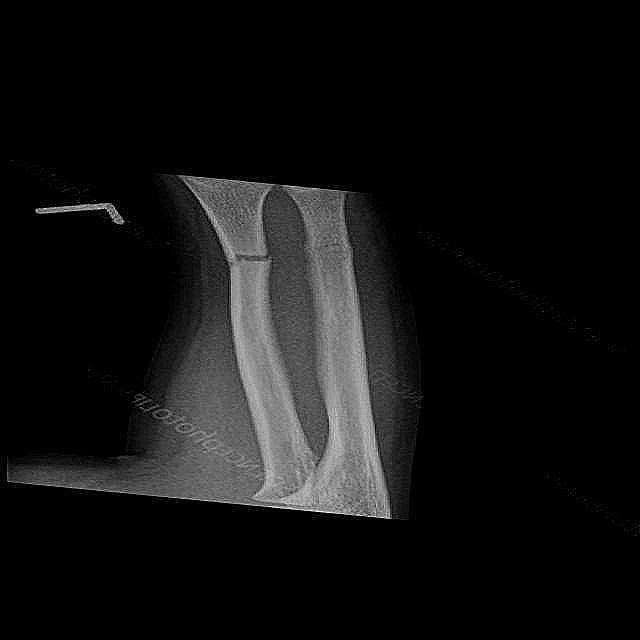bone: (217, 243, 280, 276)
